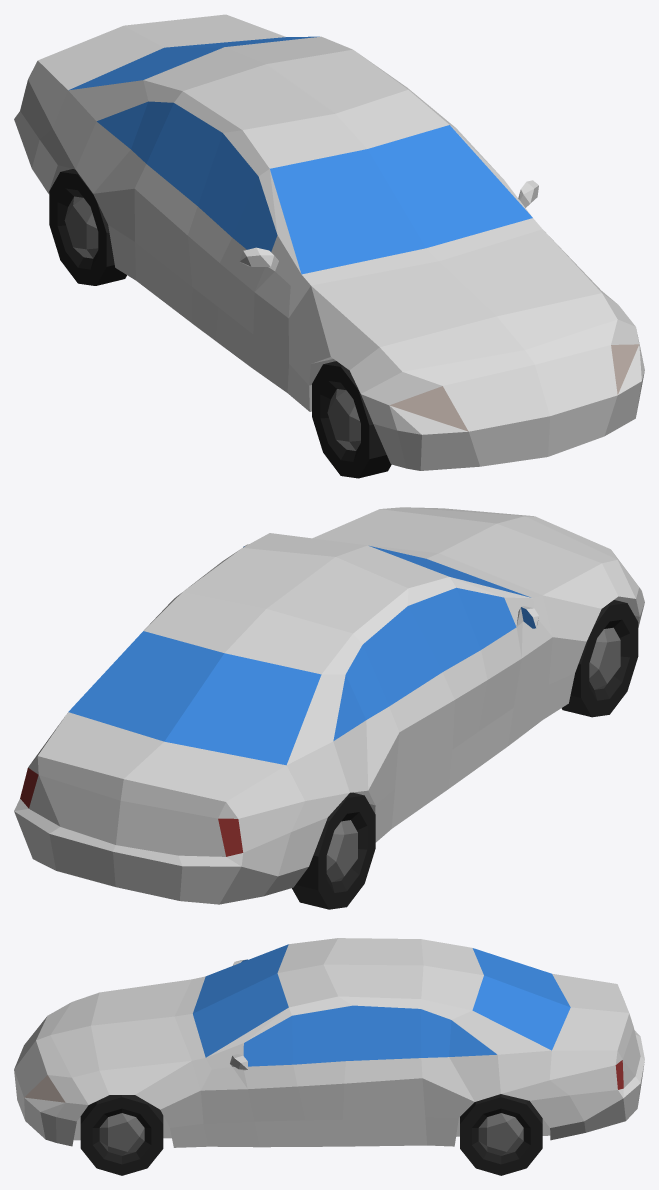
The model's file is PaperCarsSedans6.fbx.
3 renders of one model, top to bottom at view 1: azimuth 30°, elevation 25°; view 2: azimuth 150°, elevation 25°; view 3: azimuth 270°, elevation 25°, orthographic. The views are drawn at different scales.
Parts seen in each view (by area): view 1: PaperCarsSedans6; view 2: PaperCarsSedans6; view 3: PaperCarsSedans6.
Boxes of the visible parts, x1,y1,x2,y2 form: PaperCarsSedans6: (14, 14, 644, 478); PaperCarsSedans6: (14, 507, 644, 909); PaperCarsSedans6: (14, 938, 644, 1175).
Size of the model in its own units: 193 by 141 by 492.
